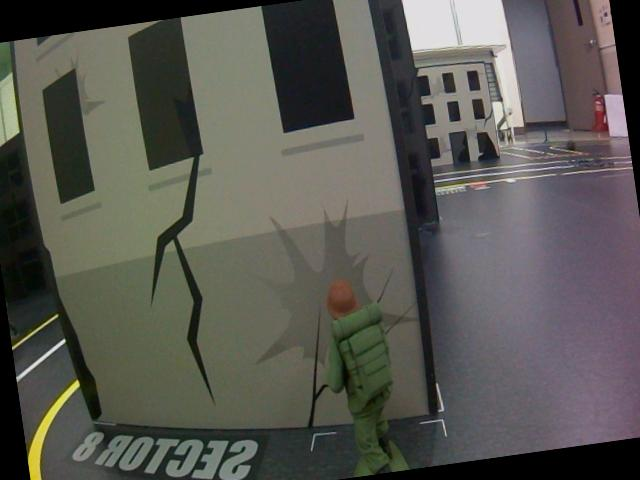Enemy: (312, 266, 416, 480)
